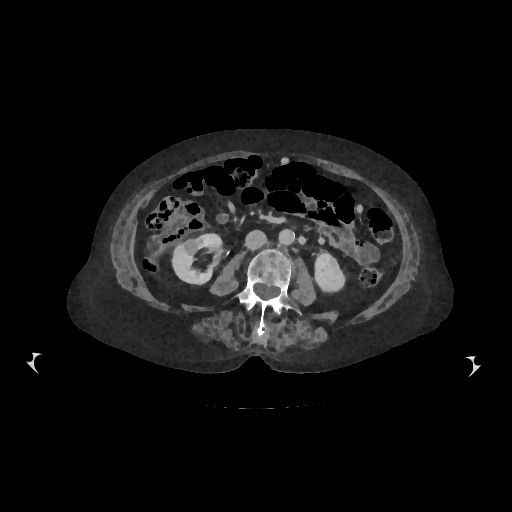Lesion: (181, 237, 198, 257)
